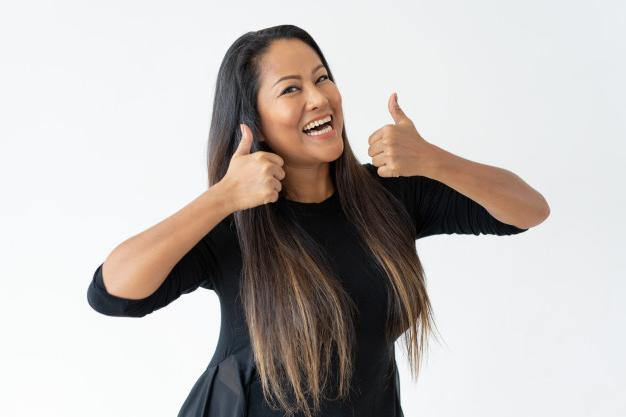thumbsup: (239, 123, 285, 204), (368, 91, 411, 177)
